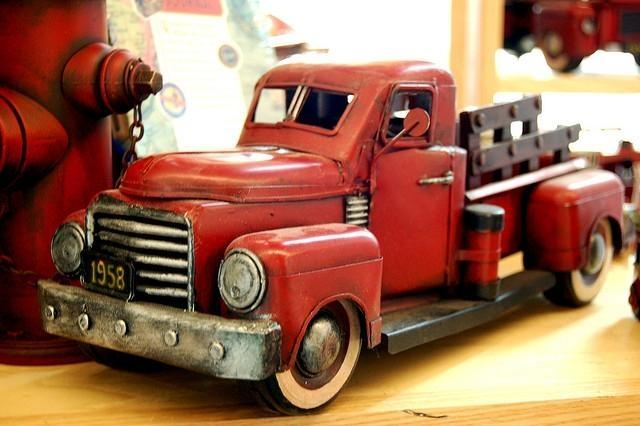truck: (40, 52, 638, 416)
